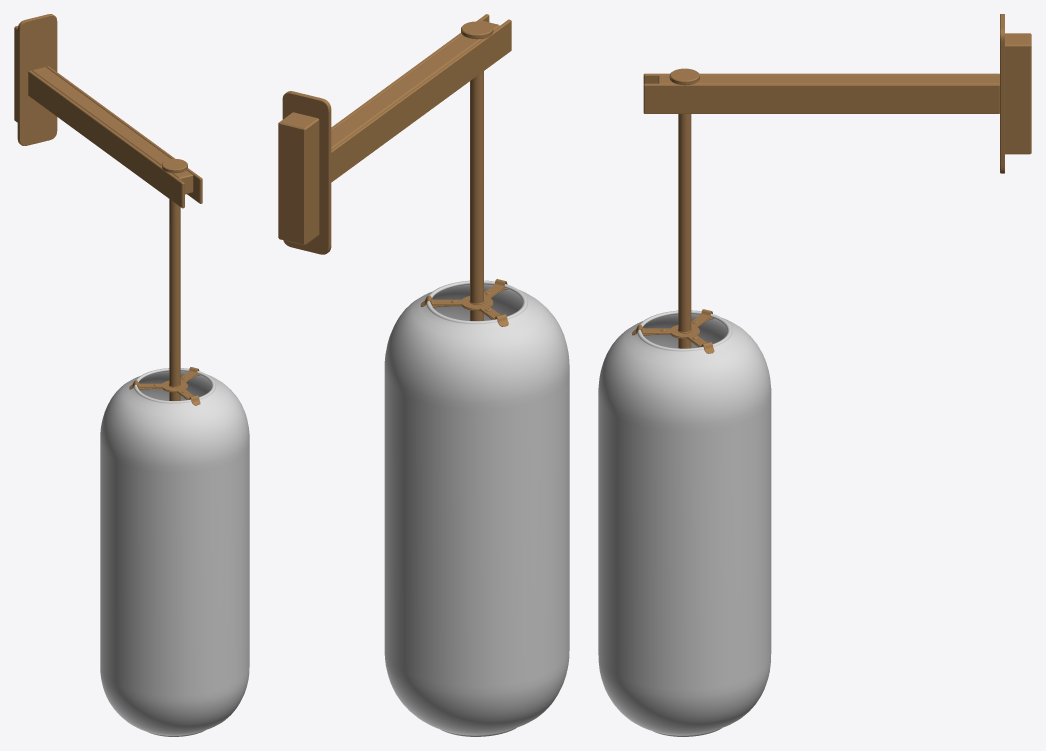
Rendered from Maison_Sarah_Lavoine_Vadim_Wall_Lamp_mat(2).fbx.
3 views of the same model, side by side, from view 1: azimuth 30°, elevation 25°; view 2: azimuth 150°, elevation 25°; view 3: azimuth 270°, elevation 25° (orthographic). The views are drawn at different scales.
Parts seen in each view (by area): view 1: Maison_Sarah_Lavoine_Vadim_Wall_Lamp_mat2; view 2: Maison_Sarah_Lavoine_Vadim_Wall_Lamp_mat2; view 3: Maison_Sarah_Lavoine_Vadim_Wall_Lamp_mat2.
Part boxes in pixels (x1,y1,x2,y2): Maison_Sarah_Lavoine_Vadim_Wall_Lamp_mat2: (14,14,249,736); Maison_Sarah_Lavoine_Vadim_Wall_Lamp_mat2: (278,14,569,736); Maison_Sarah_Lavoine_Vadim_Wall_Lamp_mat2: (598,14,1031,736).
Size of the model in its own units: 15.27 by 38.28 by 68.
